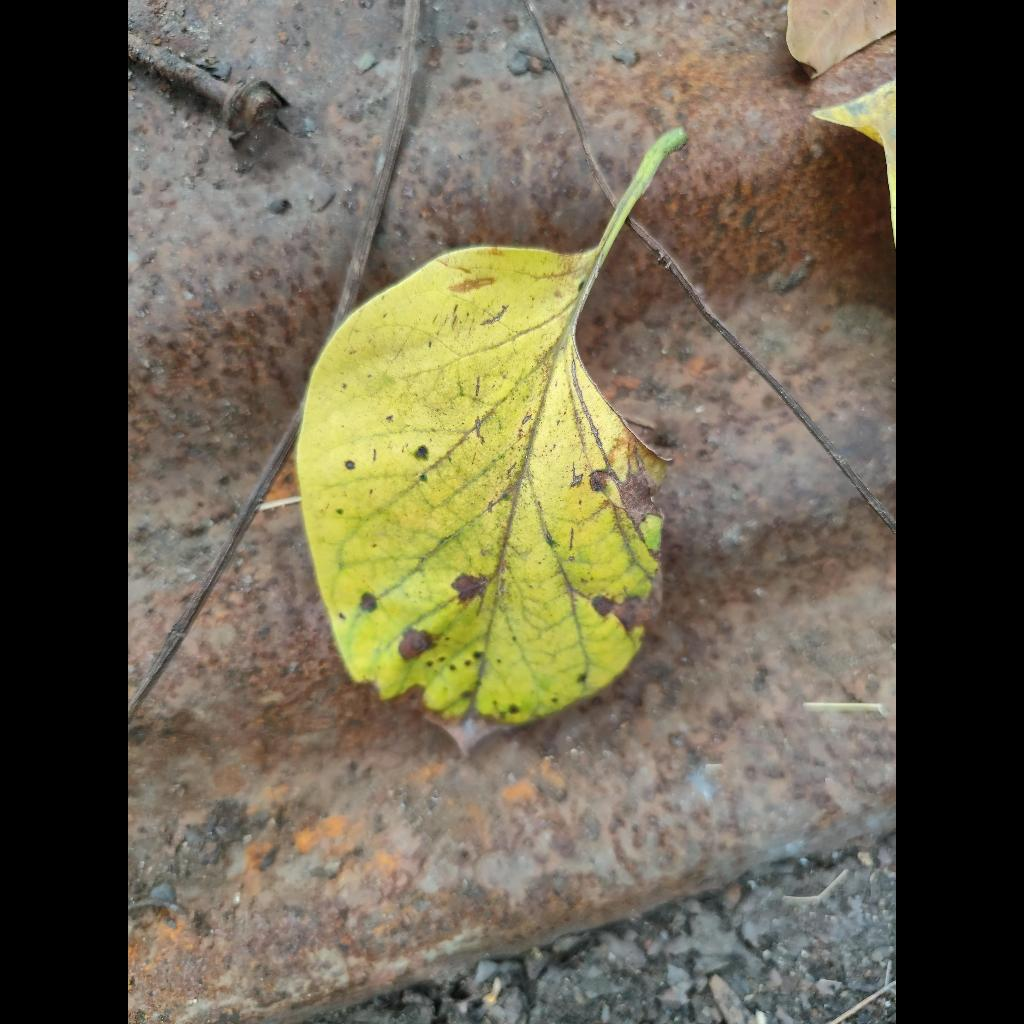deficiencia_nutricional: (296, 129, 684, 724)
